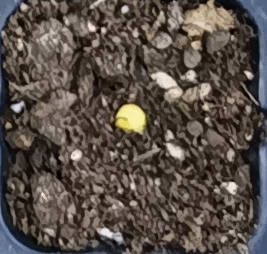pepper seed: (40, 35, 187, 170)
